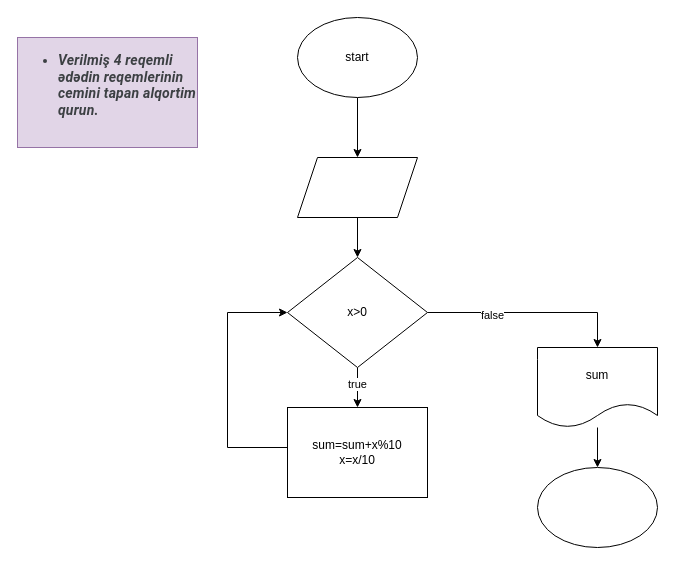
The diagram is 675 pixels wide and 565 high, and some of its shapes have lost their labels. Each missing label, with the box of its shape:
end: (536, 466, 658, 548)
x sum: (296, 156, 418, 218)
